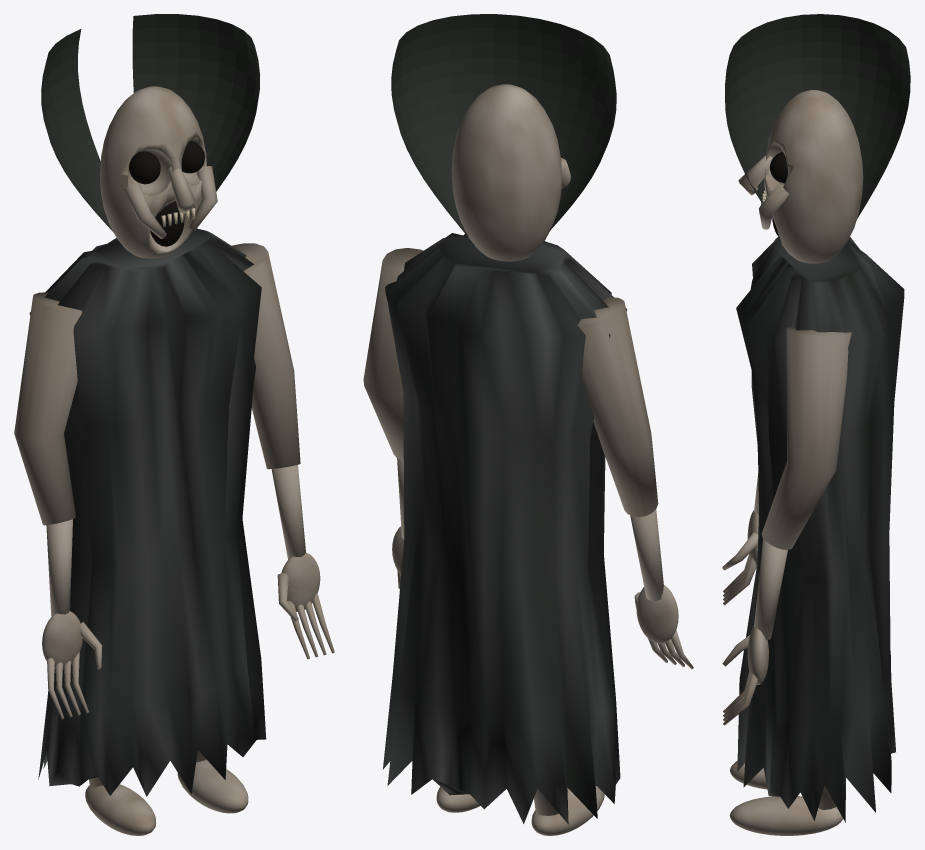
The model's file is visitor-hooded.glb.
3 renders of one model, left to right at view 1: azimuth 30°, elevation 25°; view 2: azimuth 150°, elevation 25°; view 3: azimuth 270°, elevation 25°, orthographic. The views are drawn at different scales.
Parts seen in each view (by area): view 1: Torso, BurialHood, ArmL, ArmR, Head, LegL, LegR, Cheek ridge.001, Cheek ridge, Hollow eyes, Mouth darkness, Nasal bone (+1 smaller); view 2: Torso, BurialHood, Head, ArmL, ArmR, LegL, LegR; view 3: Torso, BurialHood, ArmR, Head, LegR, ArmL, Cheek ridge.001, Nasal bone, LegL, Hollow eyes.001.
Part boxes in pixels (x1,y1,x2,y2): Torso: [29, 228, 266, 796]; BurialHood: [41, 14, 260, 232]; ArmL: [14, 292, 102, 719]; ArmR: [232, 243, 334, 659]; Head: [100, 86, 206, 258]; LegL: [85, 777, 156, 835]; LegR: [177, 750, 248, 813]; Cheek ridge.001: [188, 166, 217, 230]; Cheek ridge: [124, 182, 166, 238]; Hollow eyes: [129, 151, 160, 184]; Mouth darkness: [150, 201, 184, 246]; Nasal bone: [167, 167, 195, 213]; Torso: [383, 233, 627, 824]; BurialHood: [391, 14, 616, 240]; Head: [451, 84, 561, 261]; ArmL: [577, 297, 693, 669]; ArmR: [363, 248, 423, 588]; LegL: [531, 786, 604, 835]; LegR: [436, 786, 480, 812]; Torso: [736, 237, 904, 822]; BurialHood: [725, 14, 910, 219]; ArmR: [722, 326, 851, 725]; Head: [764, 90, 863, 263]; LegR: [729, 785, 842, 835]; ArmL: [722, 473, 758, 605]; Cheek ridge.001: [759, 182, 788, 229]; Nasal bone: [738, 155, 772, 195]; LegL: [729, 760, 767, 789]; Hollow eyes.001: [769, 152, 787, 183].
Bounding box in the file's own units: 0.84 × 2.17 × 0.4933.
